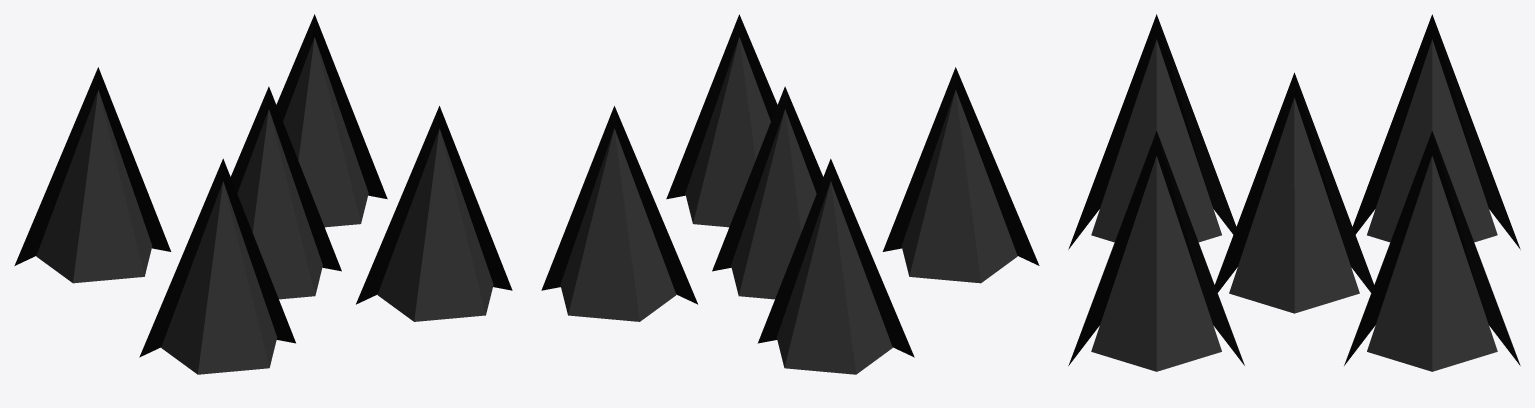
The model's file is Spikes.fbx.
The picture shows the model from 3 angles, left to right: view 1: azimuth 30°, elevation 25°; view 2: azimuth 150°, elevation 25°; view 3: azimuth 270°, elevation 25°; orthographic projection. The views are drawn at different scales.
Visible parts, largest first — view 1: Spikes; view 2: Spikes; view 3: Spikes.
Boxes of the visible parts, x1,y1,x2,y2 form: Spikes: [14, 14, 512, 374]; Spikes: [541, 14, 1039, 374]; Spikes: [1068, 14, 1520, 371].
Bounding box in the file's own units: 161 × 89.74 × 164.
